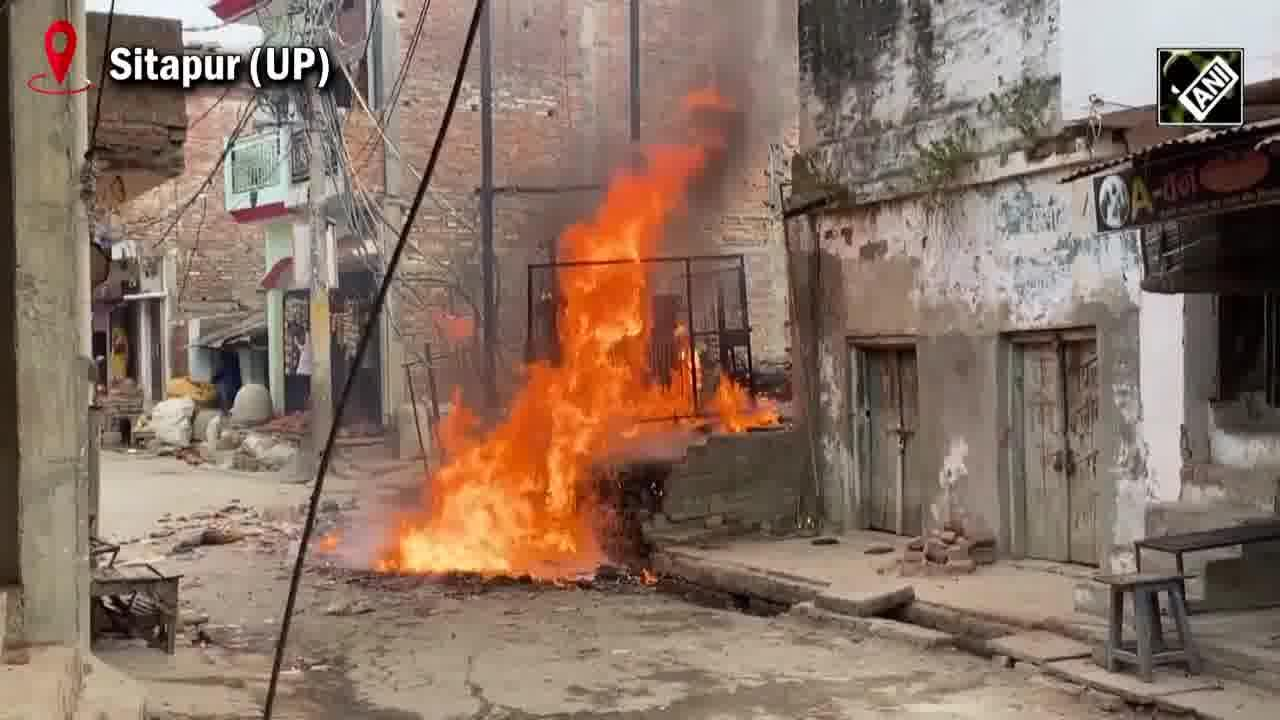fire: (364, 83, 794, 586)
